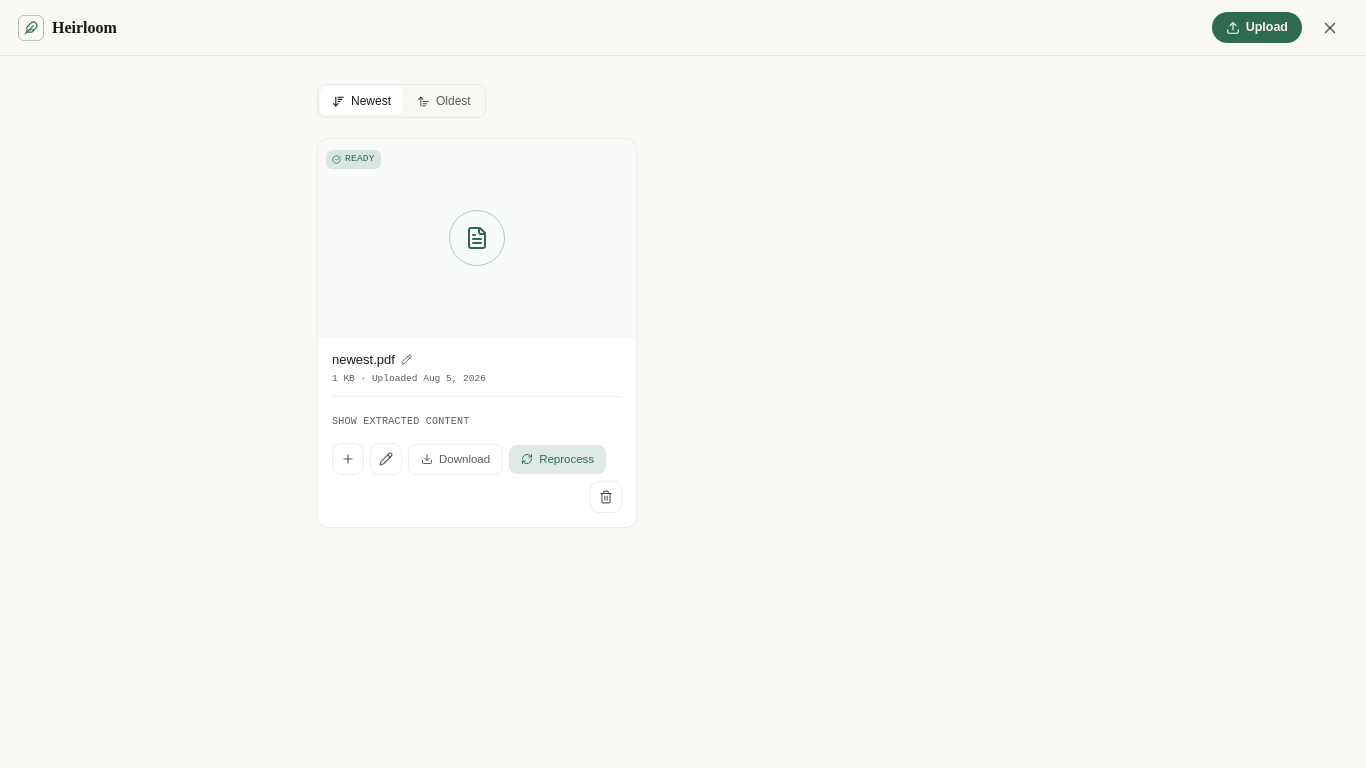
Test: MediaPage — sort toggle › defaults to Newest (no sort param); switching to Oldest resets the list and refetches with sort=oldest
The width and height of the screenshot is (1366, 768).
Check: the text "newest.pdf" is shown, box 332,352 -> 395,368
Click the tab "Oldest": (444, 101) 405,87 -> 483,115
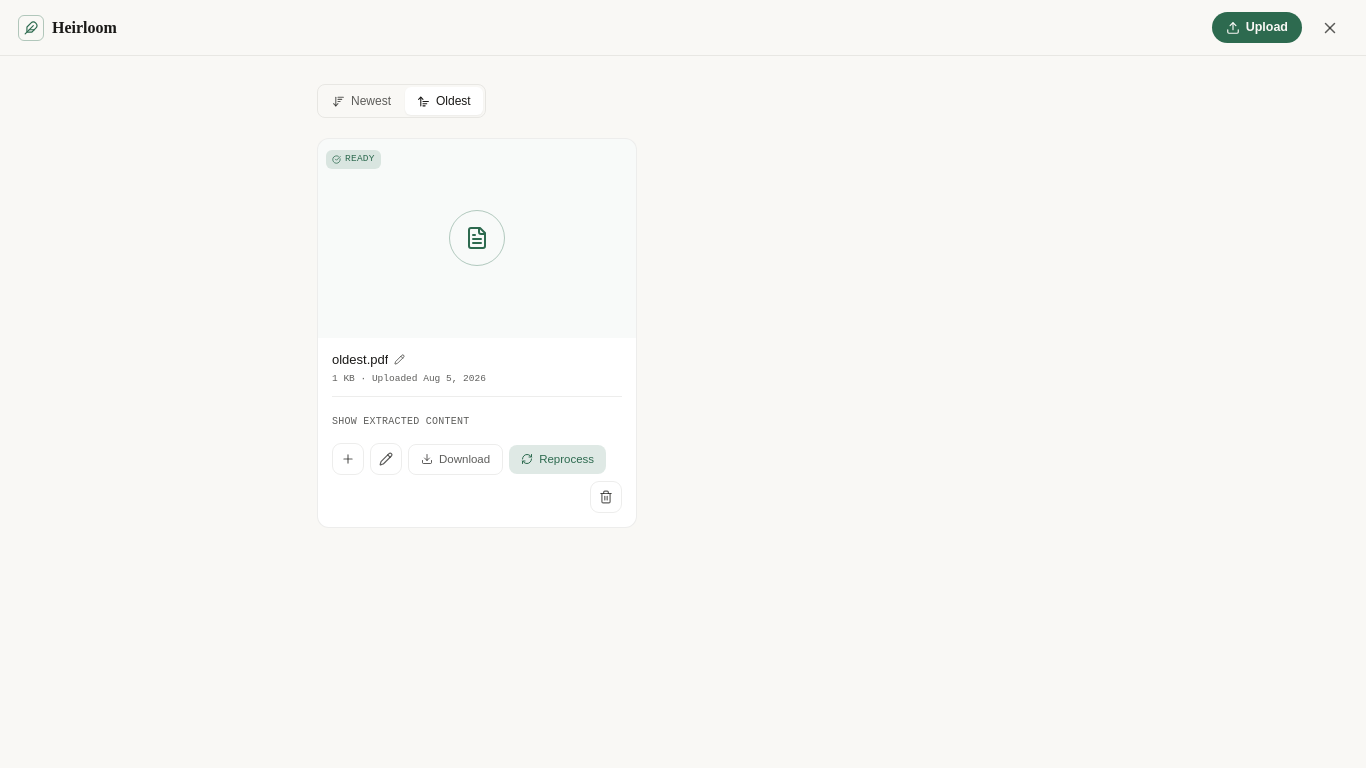
Check: the text "oldest.pdf" is shown, box 332,352 -> 388,368
Check: the button "newest.pdf" is gone
